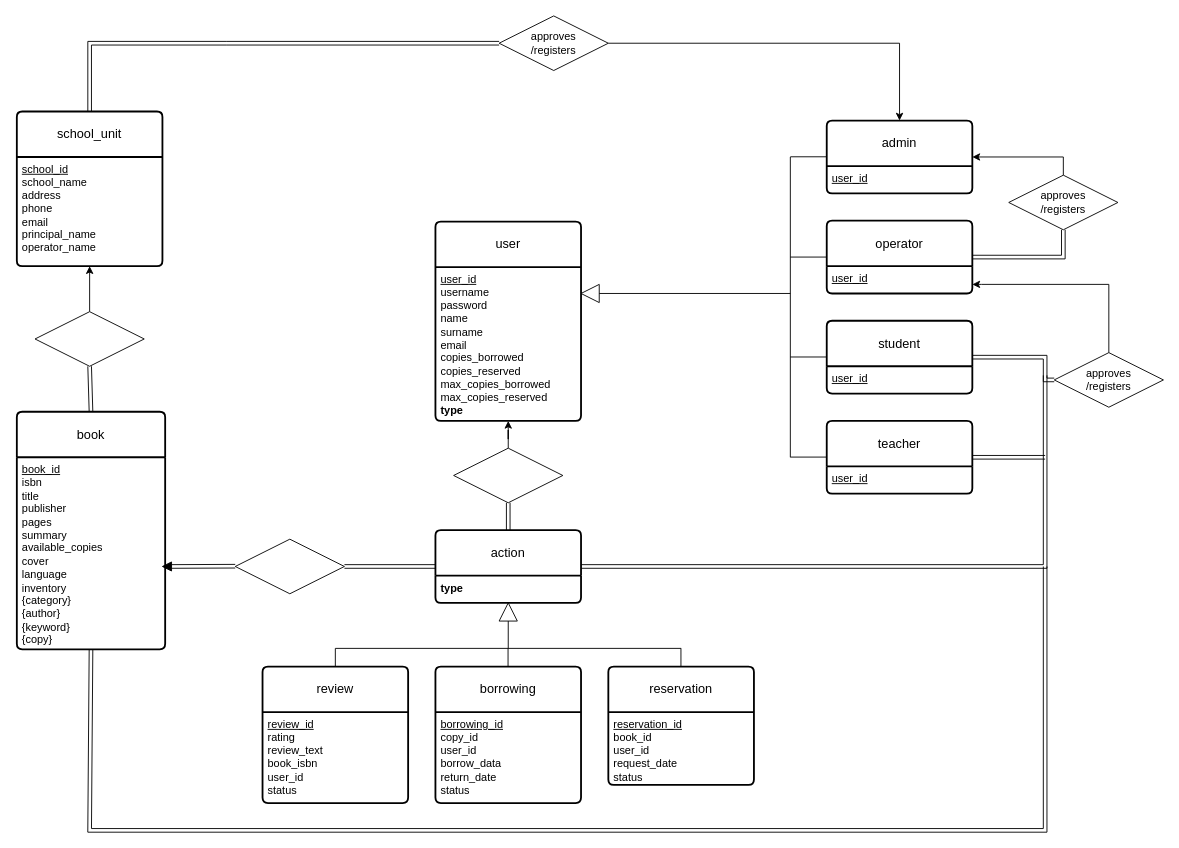
This 1179x848 diagram has some shape labels left out. Here are the shapes that lost their labels. From the top down, the centre of each, then its label:
At pixel 89 338: "owns".
At pixel 508 475: "performs".
At pixel 289 566: "is performed to".
